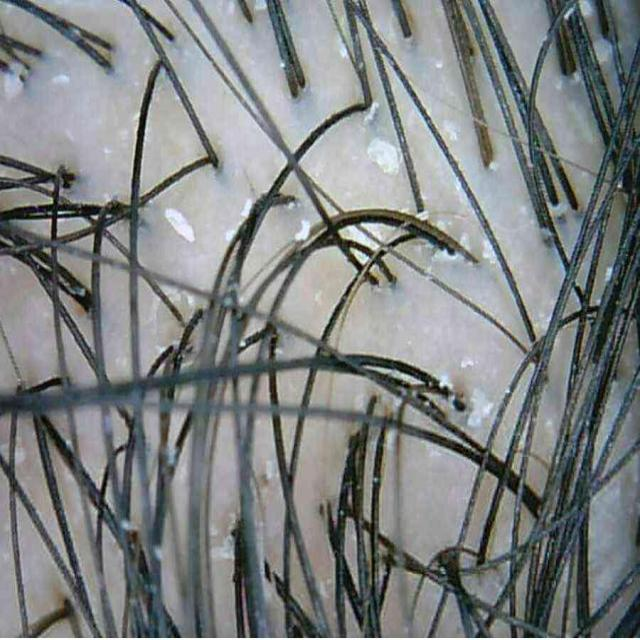d: (366, 137, 400, 175), (468, 389, 494, 428), (165, 208, 194, 242), (212, 535, 234, 561), (4, 73, 24, 100), (594, 36, 611, 63), (431, 249, 460, 263), (548, 202, 568, 222), (364, 100, 379, 125), (294, 220, 310, 242), (240, 197, 254, 219), (579, 0, 596, 17), (51, 73, 70, 85)
